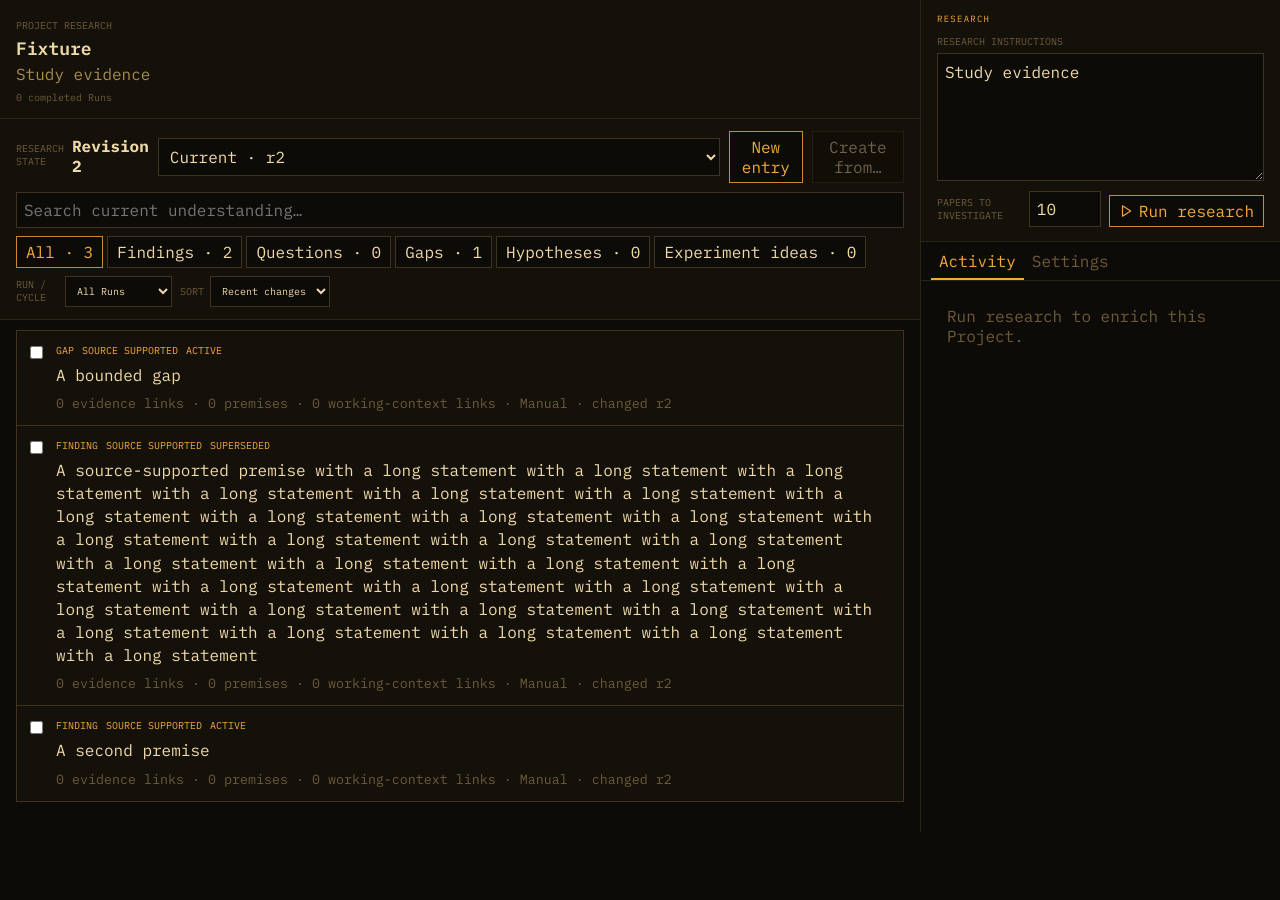
it: switching Project discards pending details from the previous Project
This screenshot has width=1280, height=900.
Step 1. Click the 1st button with class "entry-content" → point(130, 350), box [43,331,903,425]
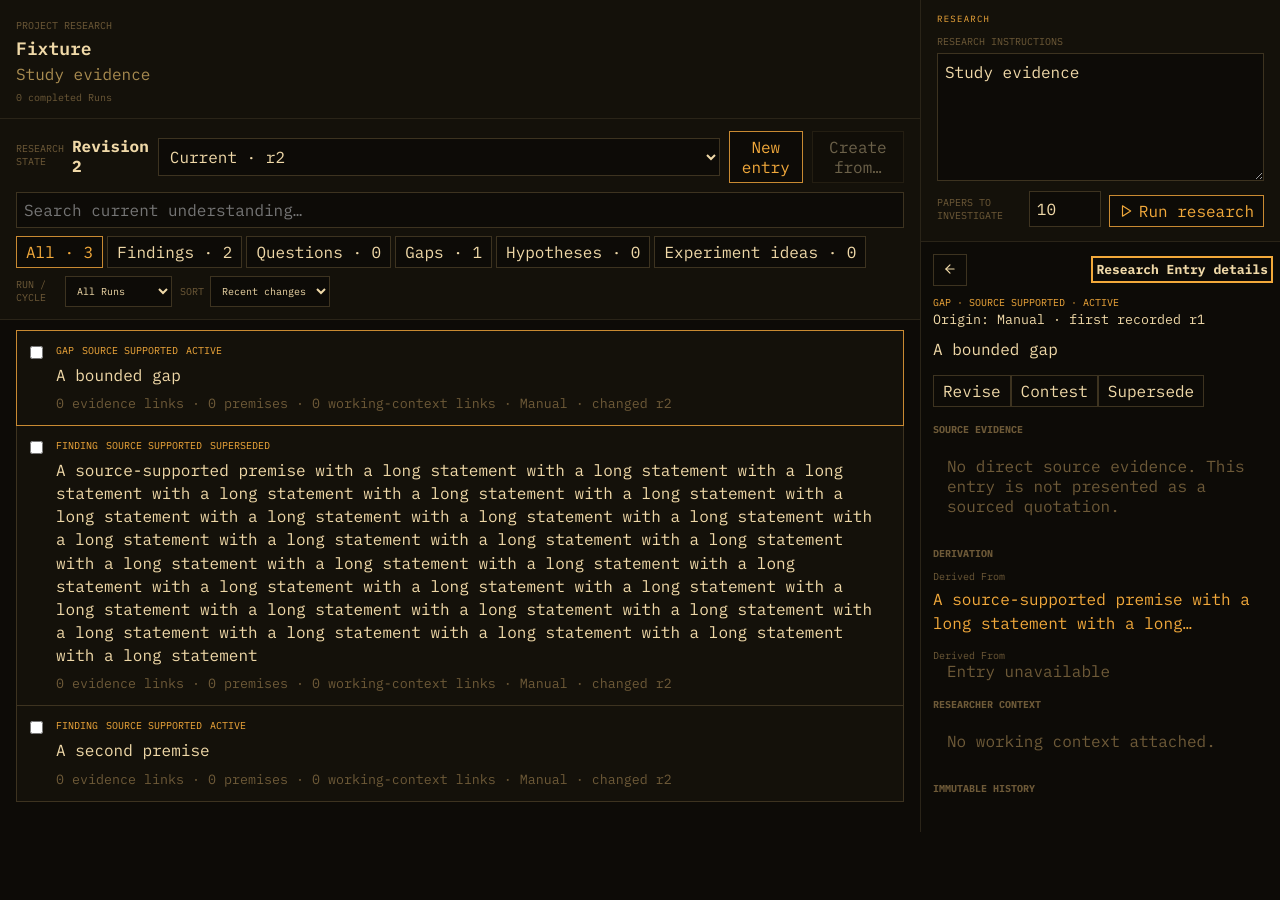
Check: the text with class "detail-text" reads "A bounded gap", box [933,340,1058,360]
Check: the button with class "relation-link" is shown
Step 2. Click the button with class "relation-link" → point(1100, 611), box [933,583,1268,639]
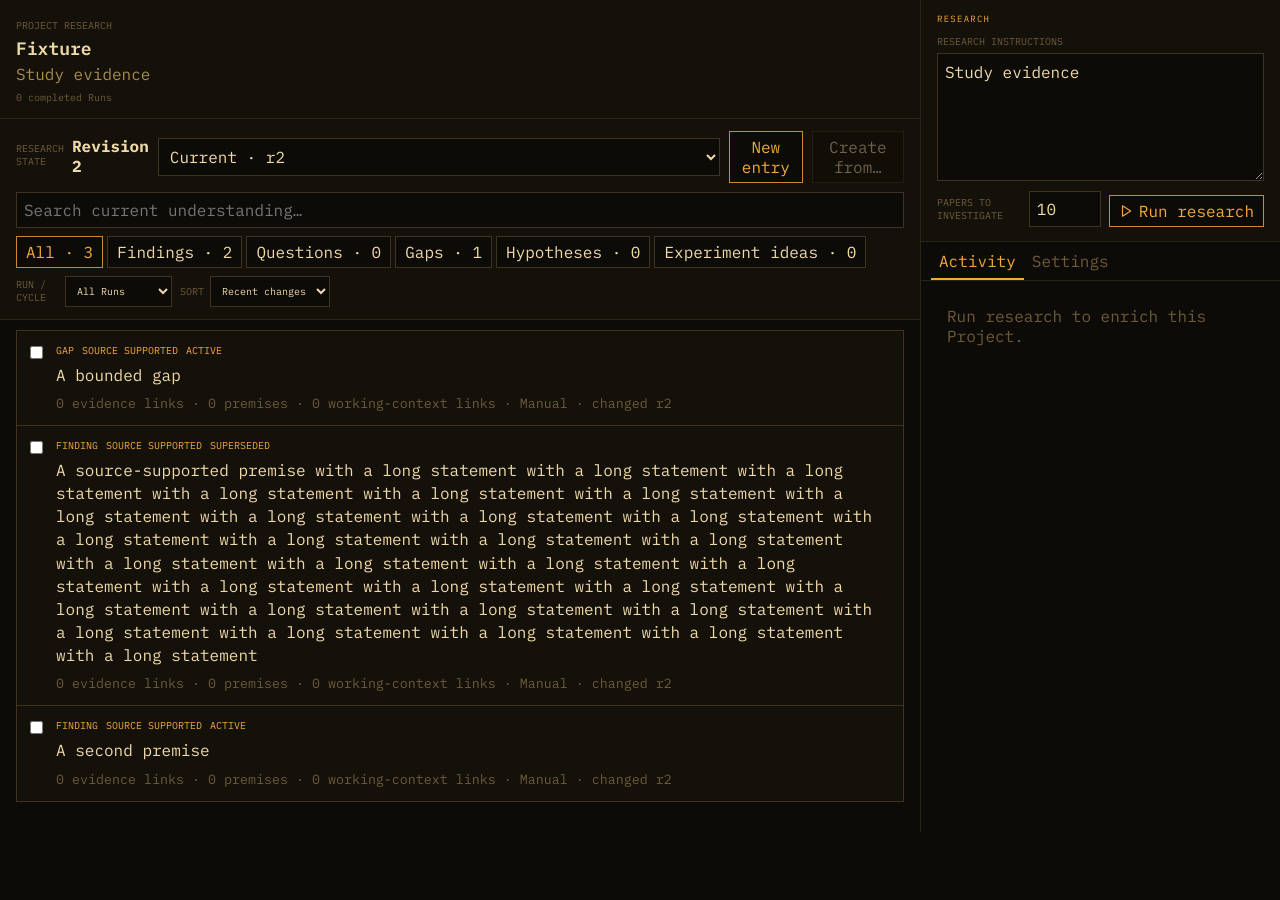
Check: the text with class "detail-text" is gone
